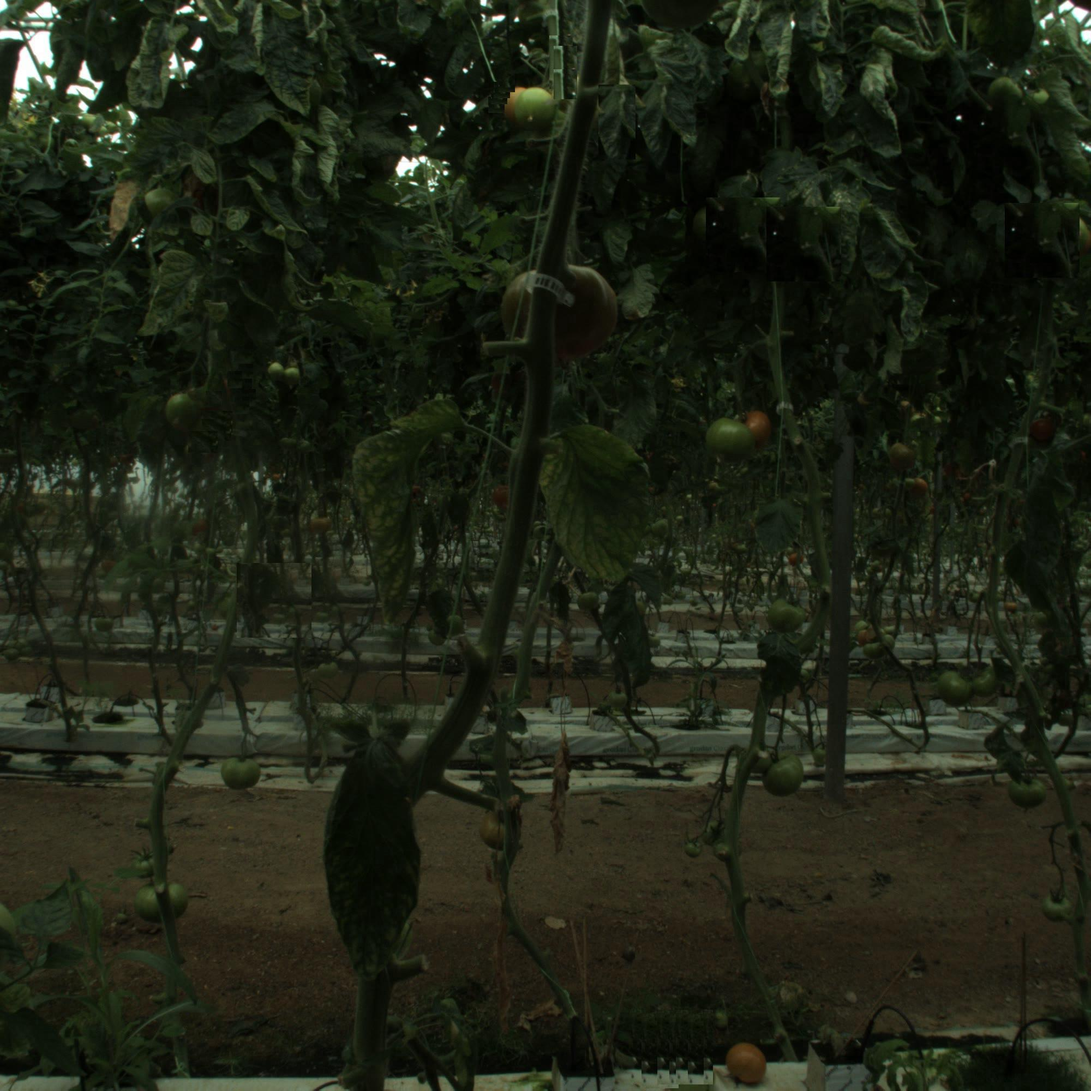fully-ripe: (725, 1044, 766, 1085)
semi-ripe: (497, 250, 621, 374), (731, 411, 772, 452)
unripe: (508, 85, 559, 135), (705, 416, 756, 466), (136, 877, 187, 927), (1006, 771, 1048, 812), (930, 671, 972, 712), (765, 754, 806, 796), (765, 595, 806, 636), (161, 392, 202, 433), (219, 753, 260, 794)
